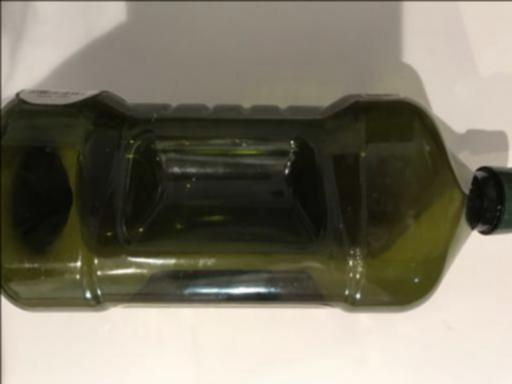PET: (1, 86, 512, 309)
plastic: (1, 86, 512, 309)
